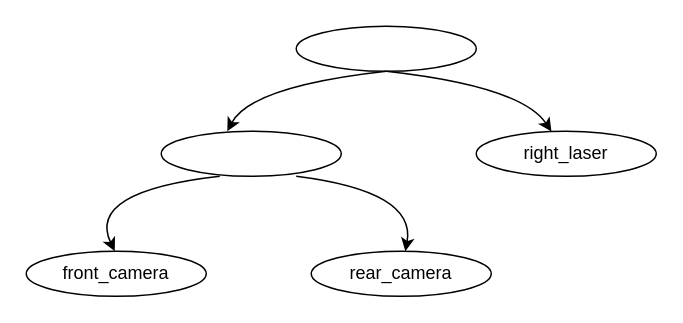
Image size: 683x323. Some labels were removed from this diagram. Each missing label, with the centre of its shape:
"base_link" goes at pixel 385 48.
"left_laser" goes at pixel 250 153.
